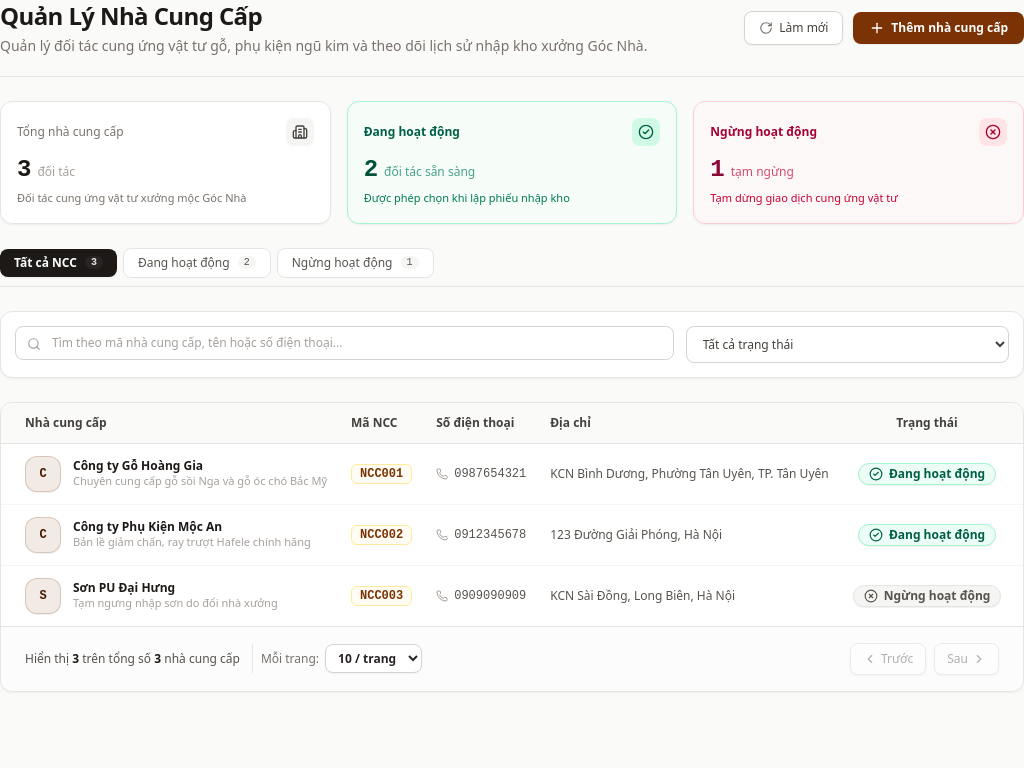
Test: ManageSuppliersPage Component › opens create supplier modal when clicking "Thêm nhà cung cấp" and displays next code
What coordinates should you click on to do the following:
click the button "Thêm nhà cung cấp"
I would click on:
 (939, 28)
Its box is [853,12,1023,44].
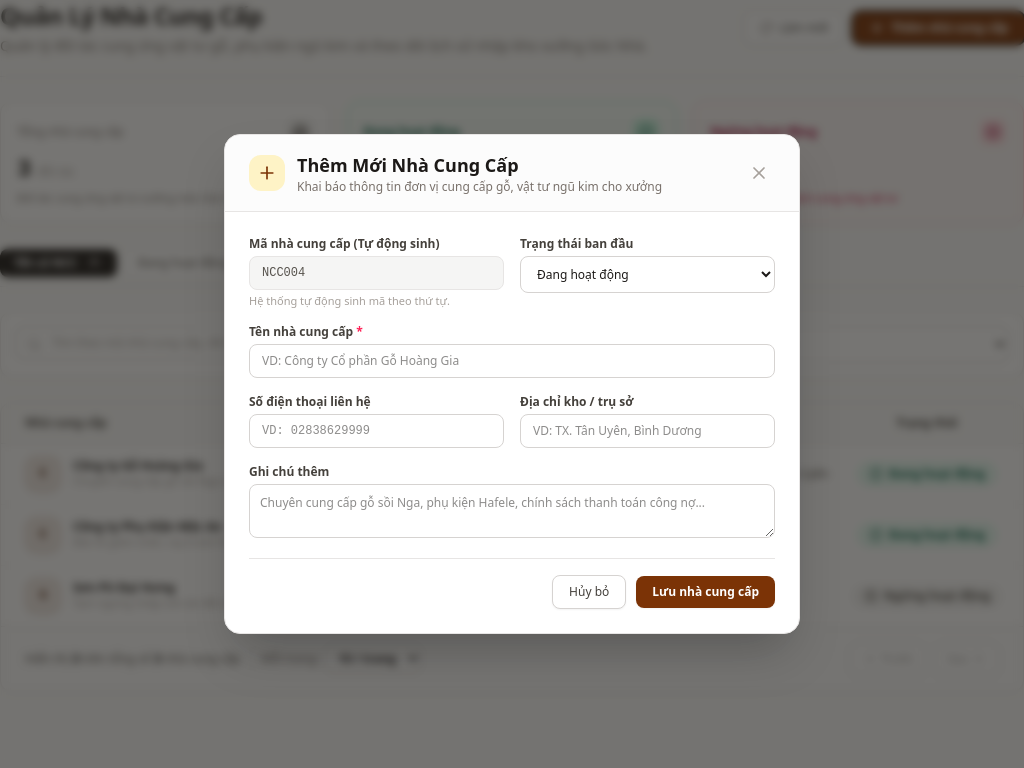
Now the heading "Thêm Mới Nhà Cung Cấp" is shown, box [297,153,518,177]
Now the field showing "NCC004" is shown, box [249,256,504,290]
Now the button "Lưu nhà cung cấp" is shown, box [636,576,775,608]
